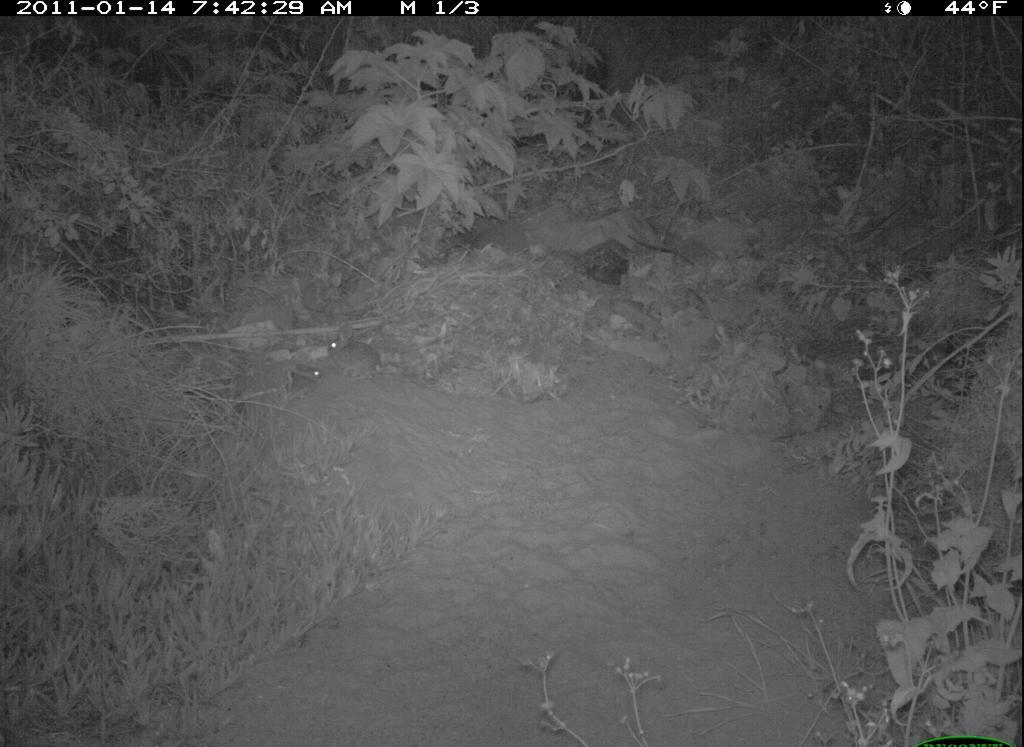rabbit: (312, 324, 388, 392)
